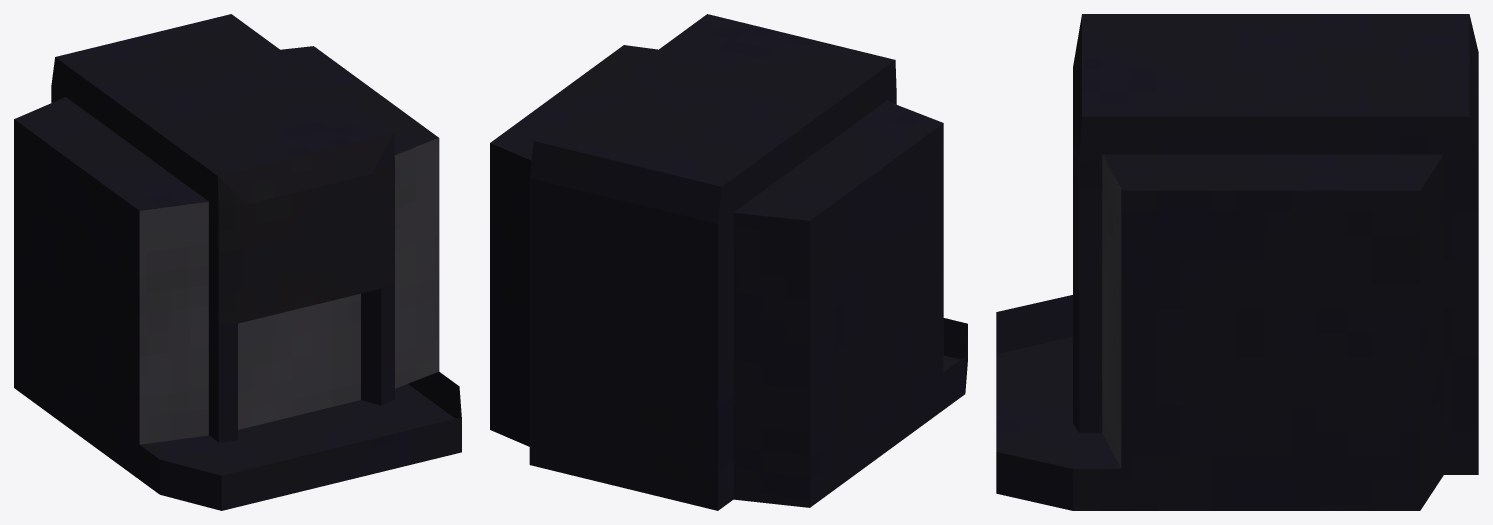
File: coffee_machine.fbx
3 renders of one model, left to right at view 1: azimuth 30°, elevation 25°; view 2: azimuth 150°, elevation 25°; view 3: azimuth 270°, elevation 25°, orthographic. The views are drawn at different scales.
Parts seen in each view (by area): view 1: coffee machine2; view 2: coffee machine2; view 3: coffee machine2.
Part boxes in pixels (x1,y1,x2,y2): coffee machine2: (14, 14, 461, 510); coffee machine2: (490, 14, 967, 510); coffee machine2: (996, 14, 1478, 510).
Size of the model in its own units: 32.12 by 30.82 by 37.55.
Materials: 1 (1 with a texture image).
